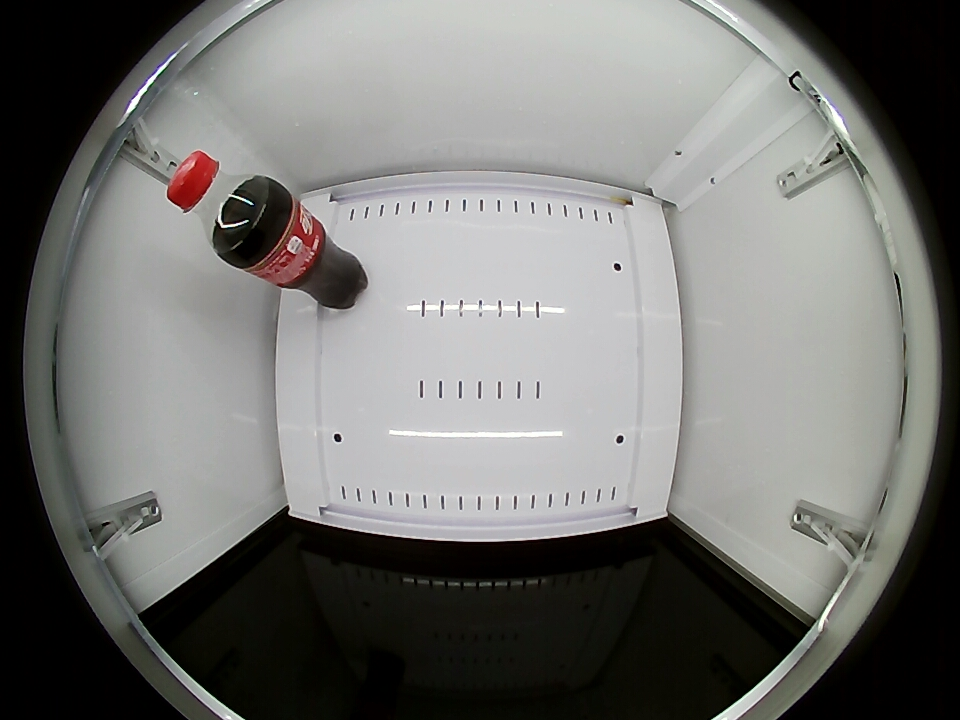kele-b: (166, 151, 270, 255)
